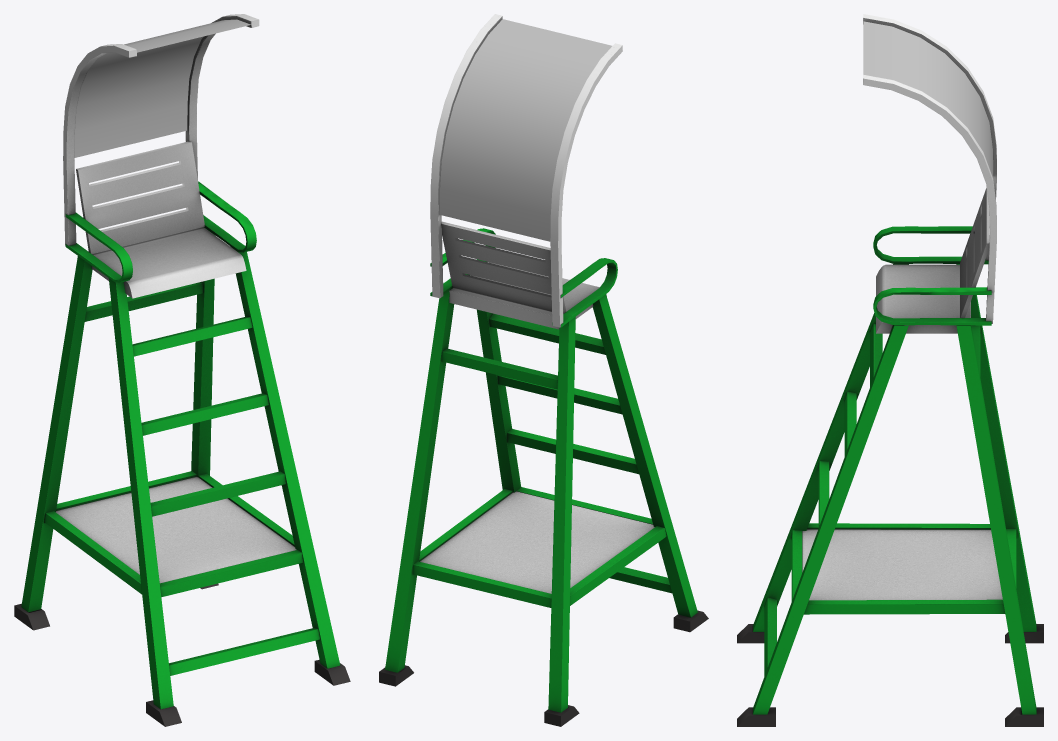
The model's file is UmpireChair6.fbx.
3 renders of one model, left to right at view 1: azimuth 30°, elevation 25°; view 2: azimuth 150°, elevation 25°; view 3: azimuth 270°, elevation 25°, orthographic. The views are drawn at different scales.
Parts seen in each view (by area): view 1: UmpireChair6; view 2: UmpireChair6; view 3: UmpireChair6.
Boxes of the visible parts, bbox=[...] form: UmpireChair6: bbox=[14, 14, 350, 726]; UmpireChair6: bbox=[379, 14, 708, 726]; UmpireChair6: bbox=[737, 14, 1043, 726].
Size of the model in its own units: 0.0108 by 0.0347 by 0.0152.
